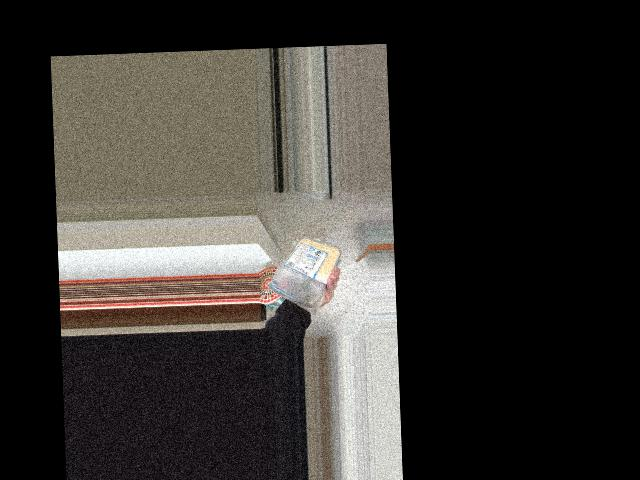cheese: (269, 233, 333, 305)
